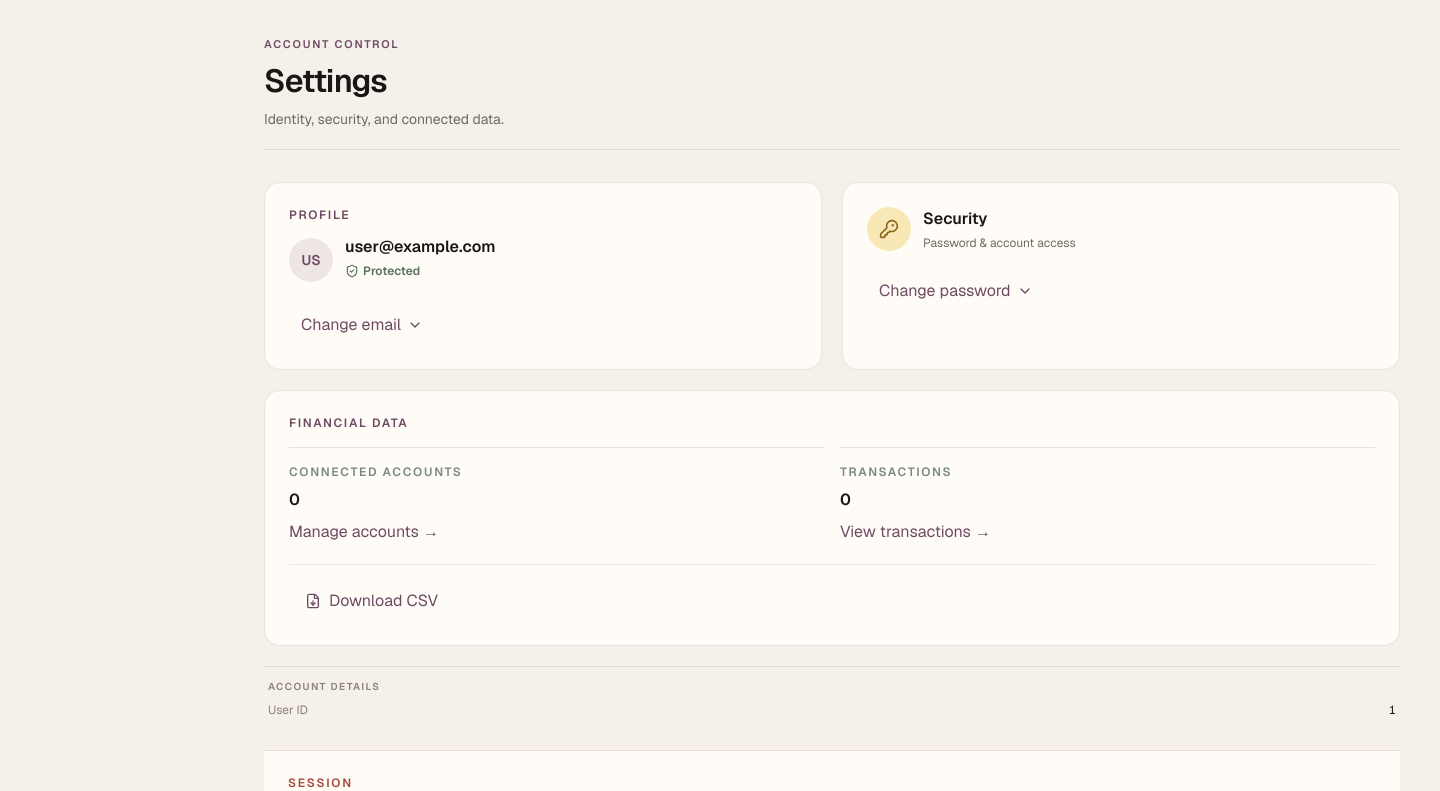
Scenario: settings stale toast handling › clears a still-visible success message when a different form hits a validation error
Check: the text "user@example.com" is shown, box [345,234,495,258]
Click the button "Change password" at (956, 290), box [867,270,1045,310]
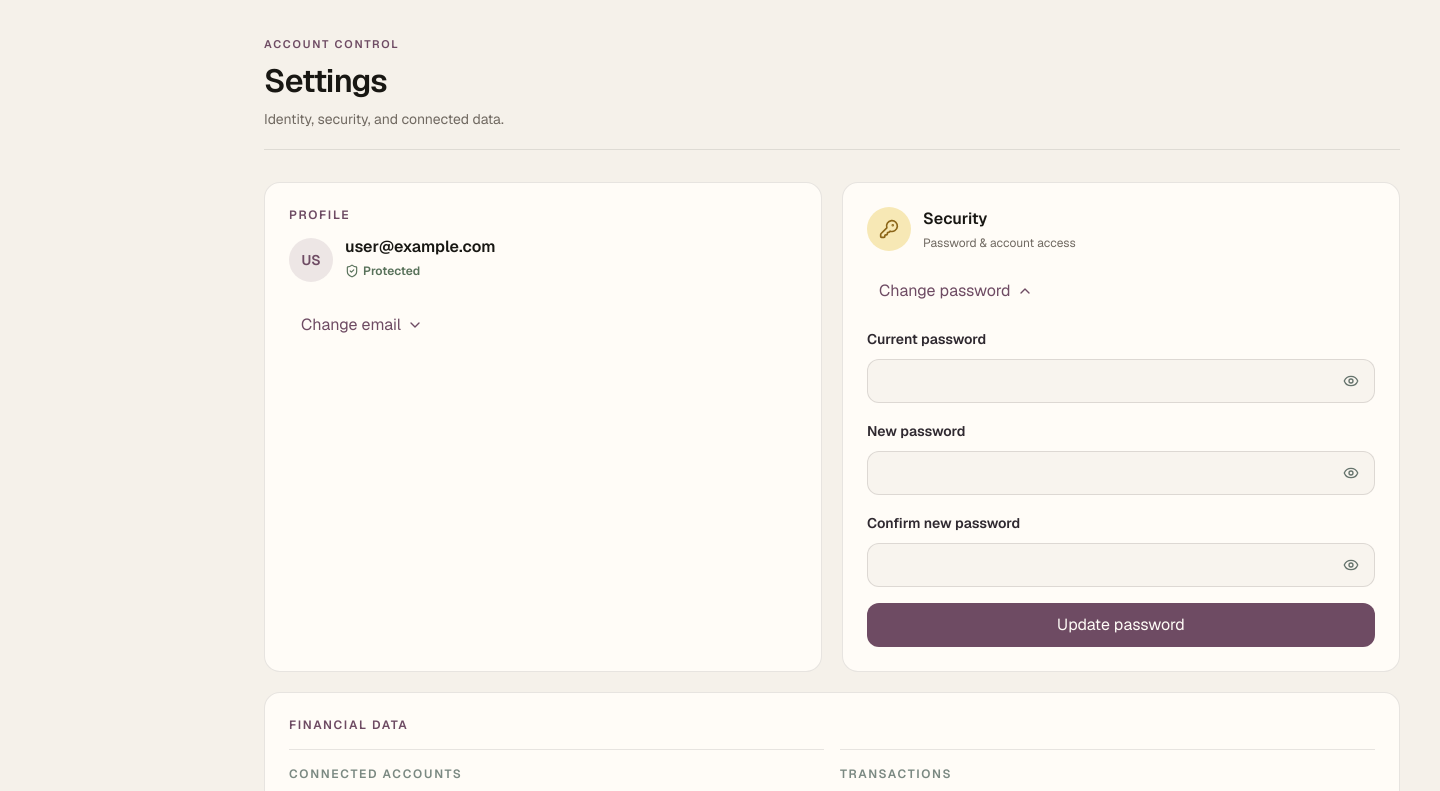
Type "OldPassword123!" into the password field labelled "Current password" at (1121, 380), box [867,358,1375,402]
Type "NewPassword456!" into the password field labelled "New password" at (1121, 472), box [867,450,1375,494]
Type "NewPassword456!" into the password field labelled "Confirm new password" at (1121, 564), box [867,542,1375,586]
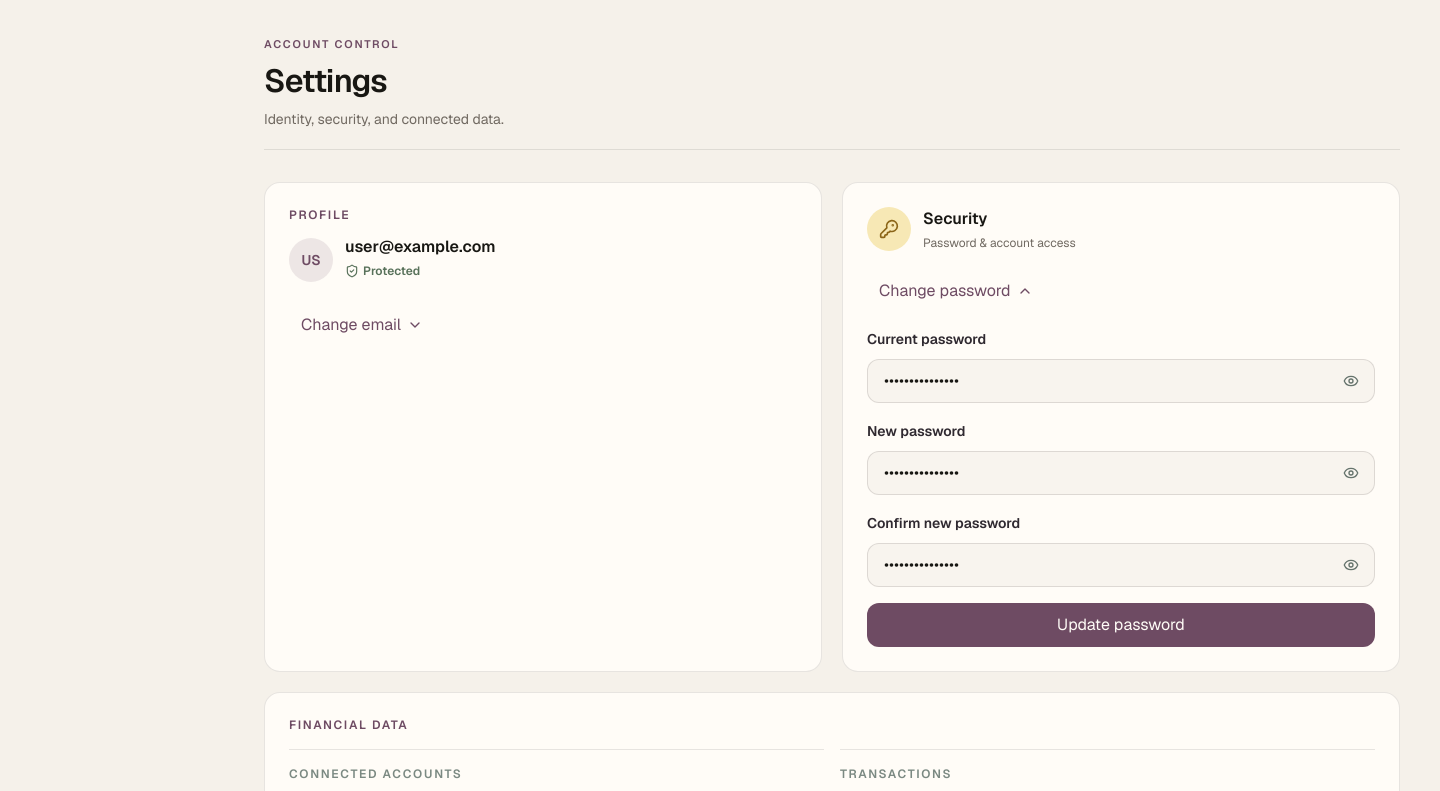
Click the button "Update password" at (1121, 624), box [867,602,1375,646]
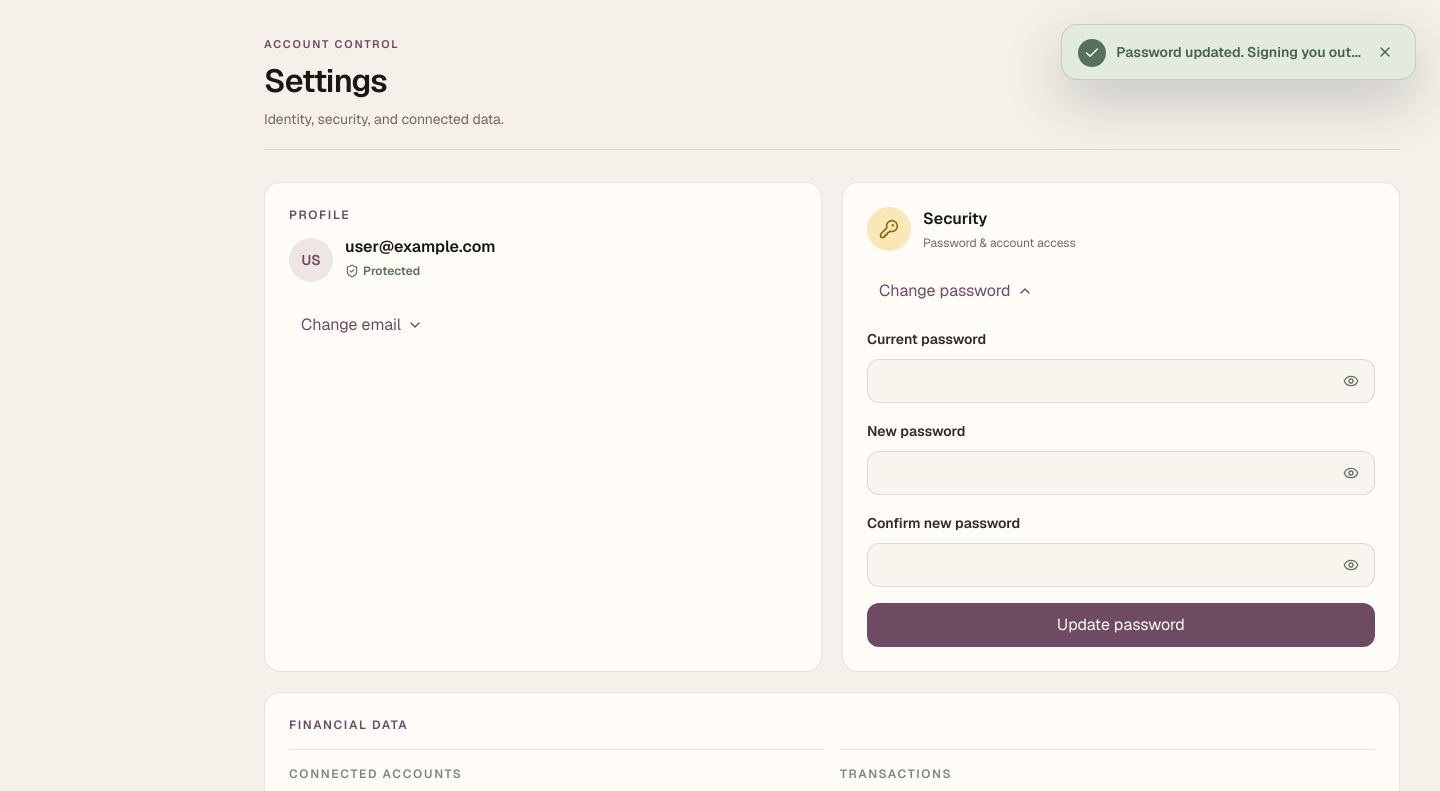
Check: the text "Password updated. Signing you out..." is shown, box [1116,42,1361,62]
Click the button "Change email" at (362, 324), box [289,304,435,344]
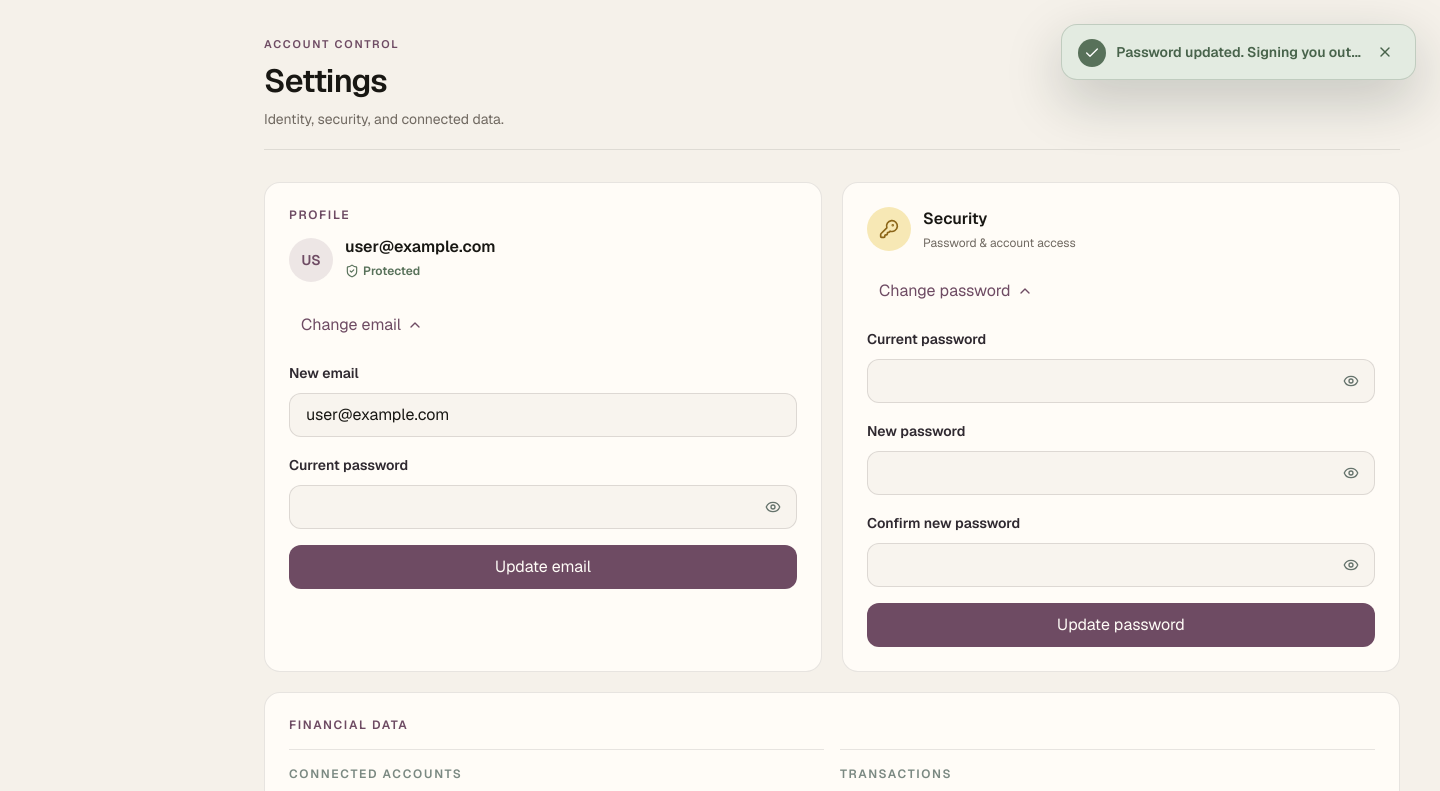
Type "CurrentPassword123!" into the password field labelled "Current password" below "New email" at (543, 506), box [289,484,797,528]
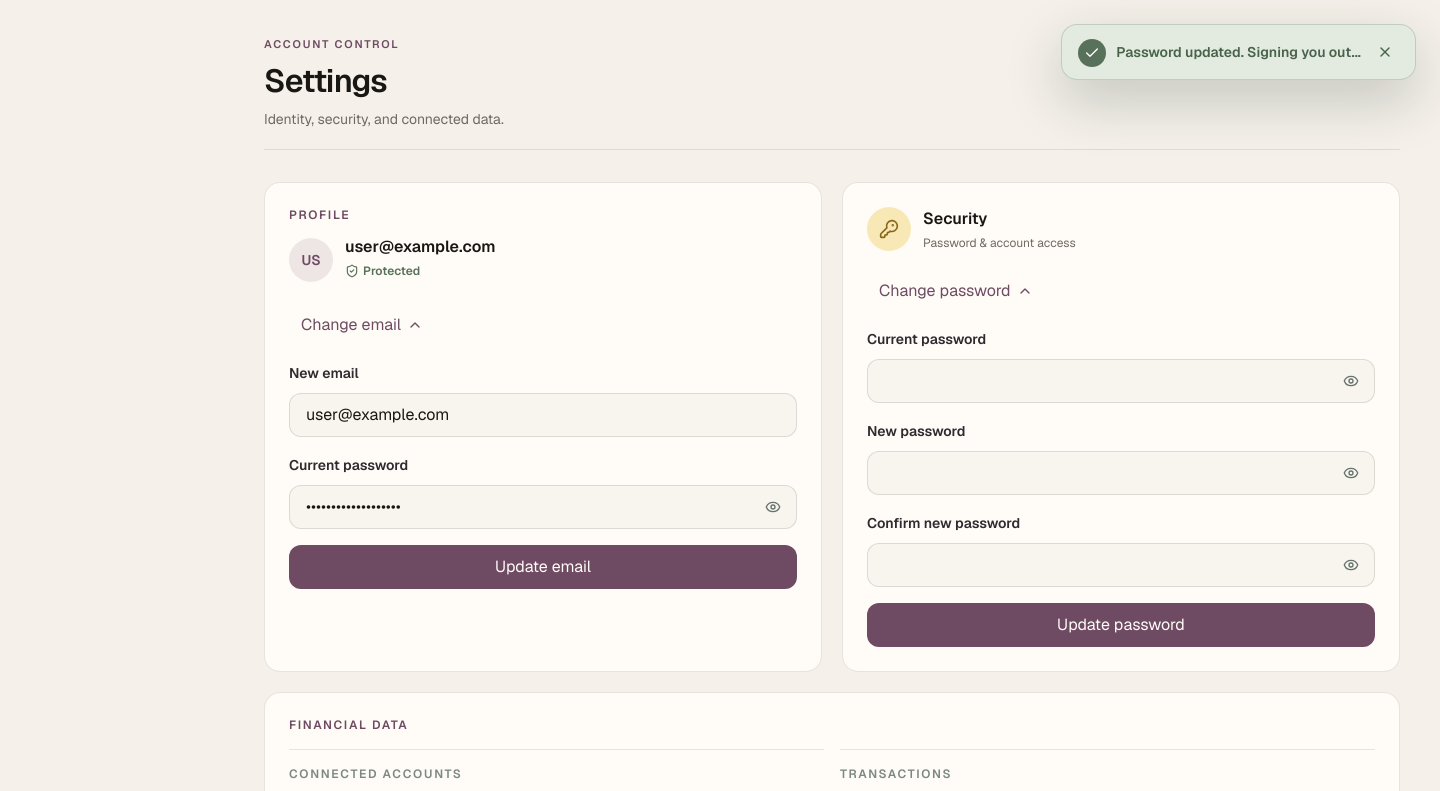
Click the button "Update email" at (543, 566), box [289,544,797,588]
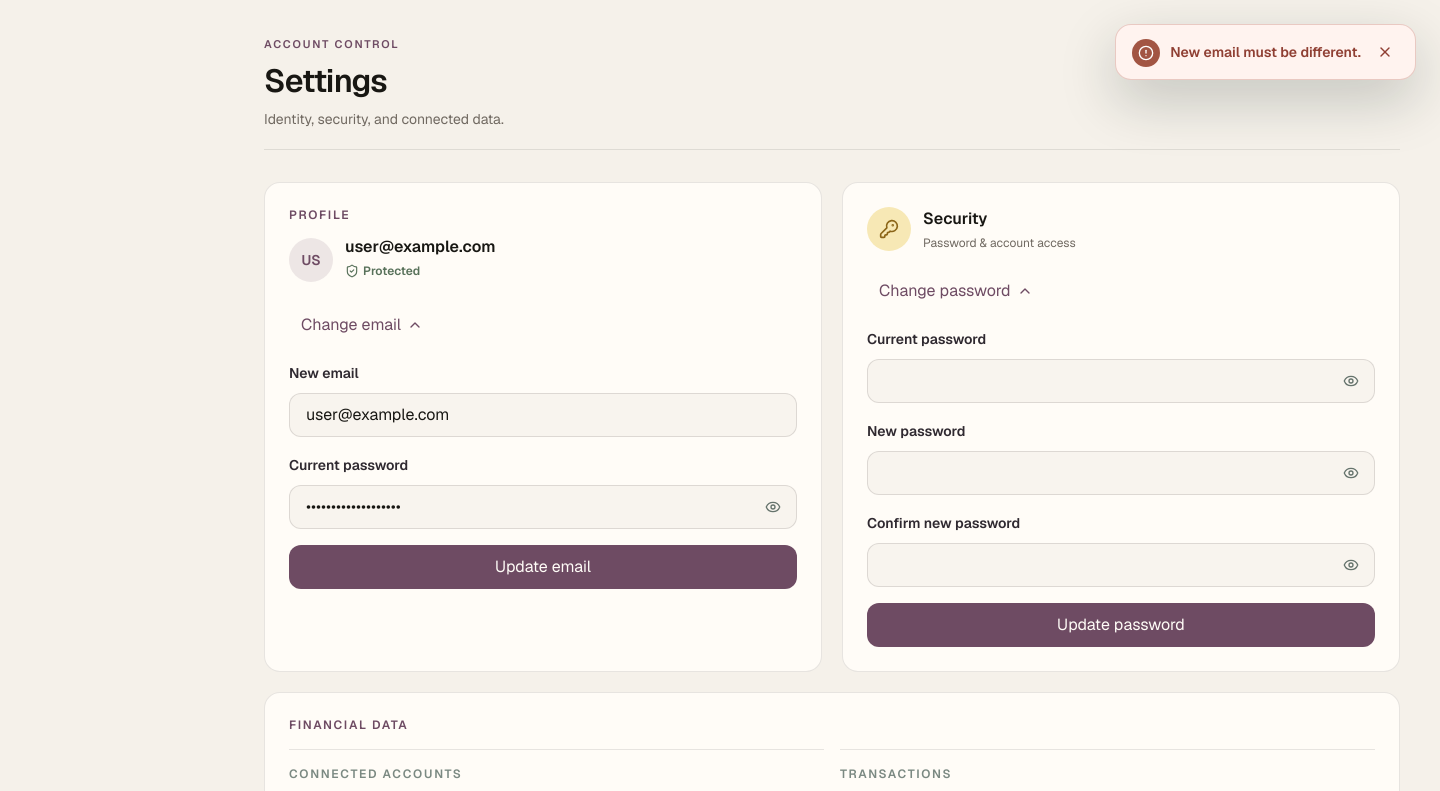
Check: the text "New email must be different." is shown, box [1170,42,1361,62]
Check: the text "Password updated. Signing you out..." is gone
